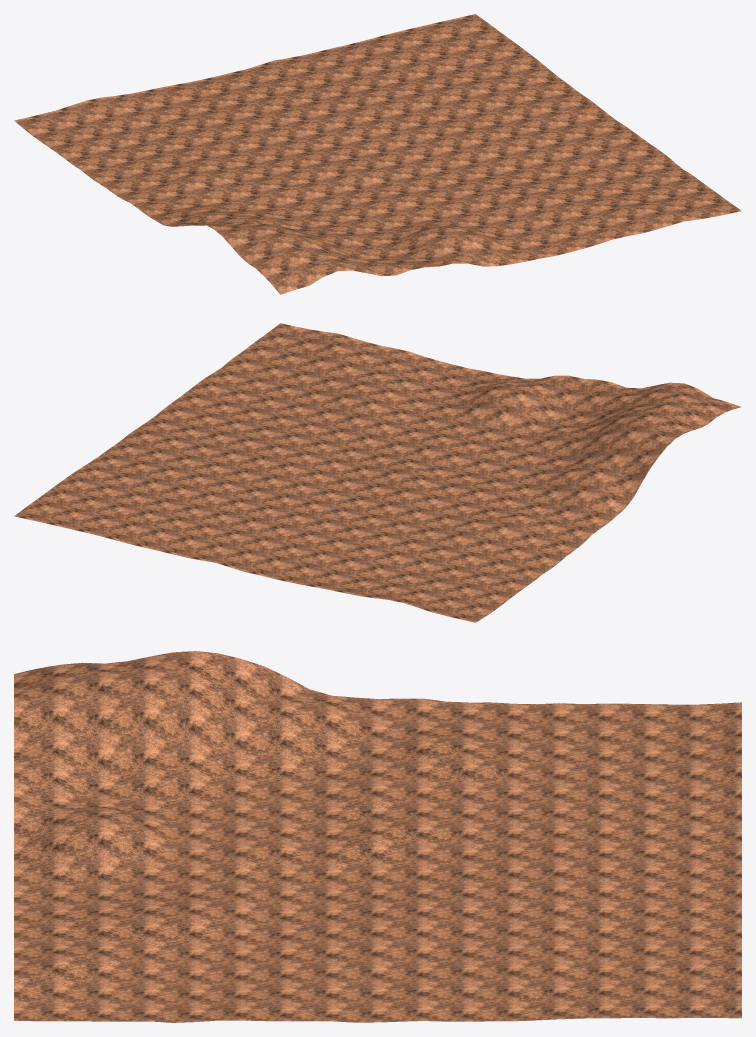
The model's file is terrain_04_06.dae.
3 renders of one model, top to bottom at view 1: azimuth 30°, elevation 25°; view 2: azimuth 150°, elevation 25°; view 3: azimuth 270°, elevation 25°, orthographic. The views are drawn at different scales.
Visible parts, largest first — view 1: terrain_04_06-node; view 2: terrain_04_06-node; view 3: terrain_04_06-node.
Part boxes in pixels (<box>): terrain_04_06-node: <box>14,14,741,294</box>; terrain_04_06-node: <box>14,323,741,622</box>; terrain_04_06-node: <box>14,651,741,1022</box>.
Bounding box in the file's own units: 128 × 128 × 12.46.
1 material, 1 textured.
